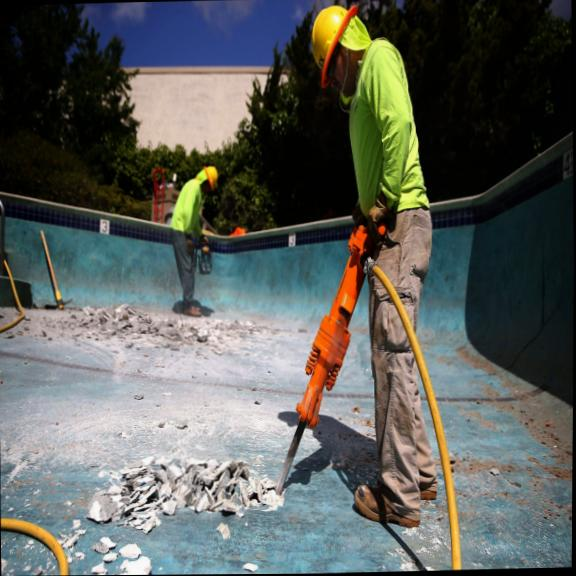no_safety_vest: (338, 58, 432, 229), (176, 179, 204, 238)
